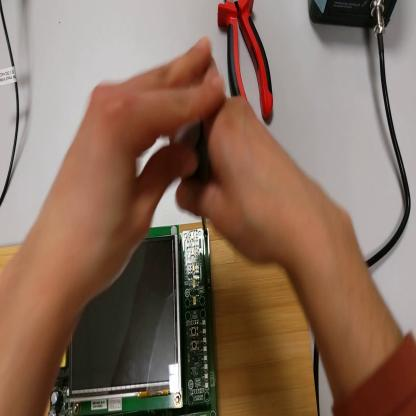hand: (38, 30, 220, 299), (176, 91, 301, 274)
low voltage board: (50, 224, 217, 413)
pliers: (217, 3, 275, 127)
screwdriver-: (169, 116, 213, 255)
welder station: (309, 1, 398, 36)
working area: (2, 223, 319, 414)
